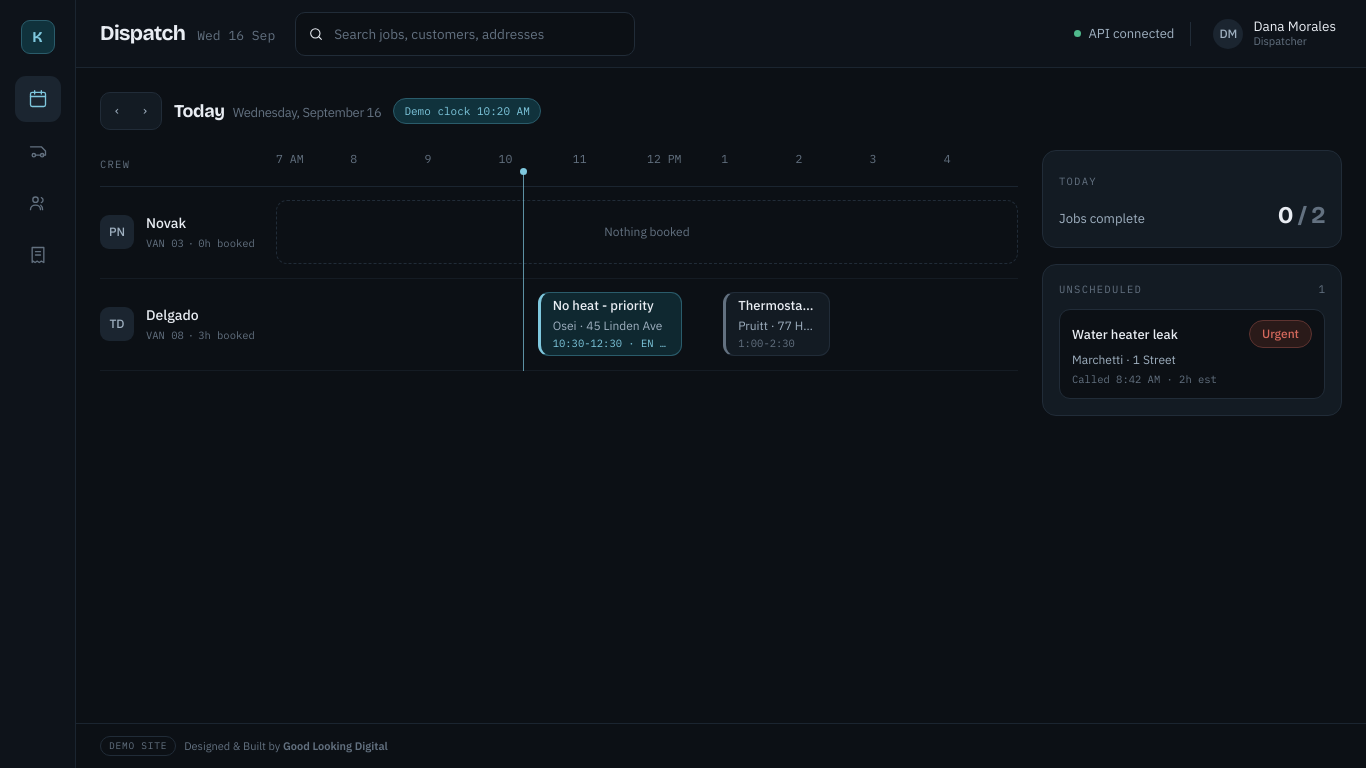
Test: the dispatch board › the demo clock › draws no now-line on a day that is not today
Expected: the list named "Delgado's jobs" is shown, [538, 292, 830, 356]
What coordinates should you click on to do the following:
click the button named "Next day"
I would click on:
 (145, 111)
Its box is [133, 97, 157, 124].
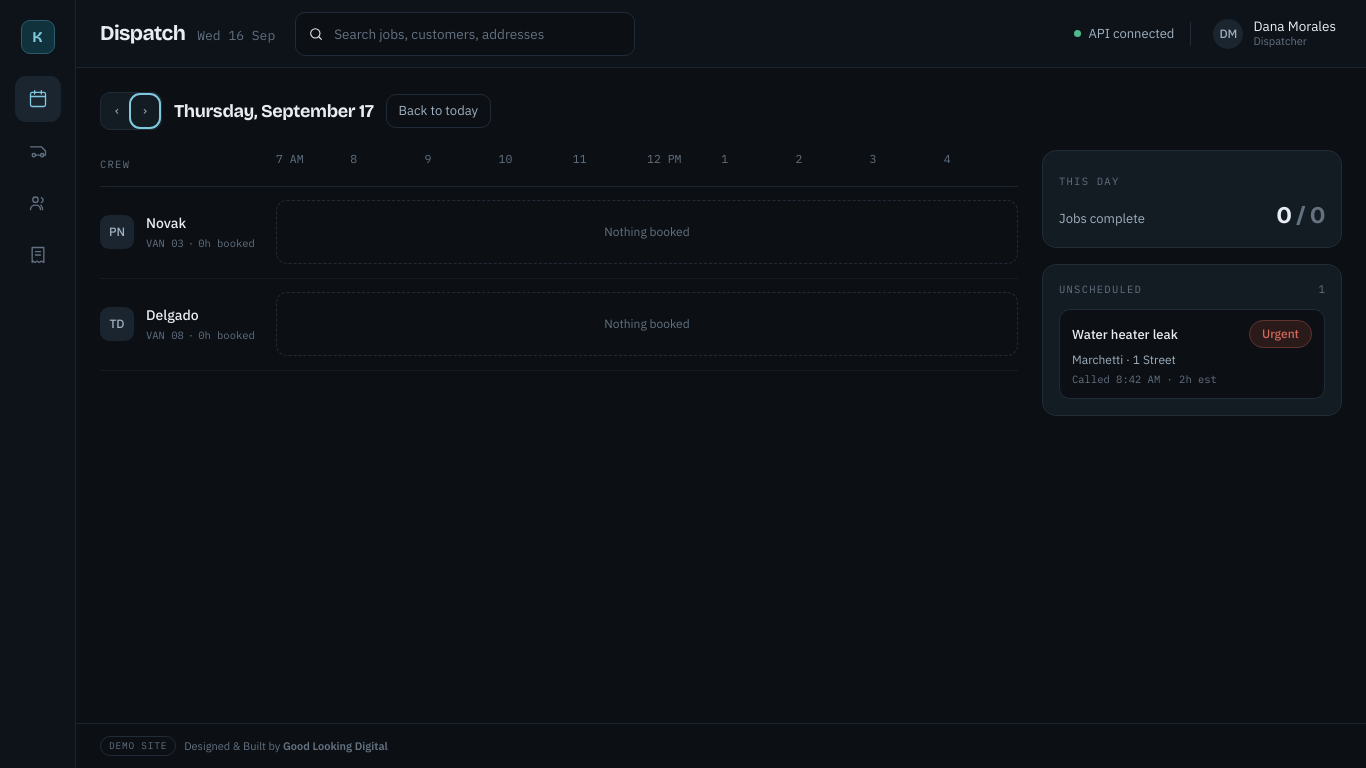
Result: the heading "Thursday, September 17" is shown at [174, 97, 374, 125]
Result: the text "Demo clock" is gone
